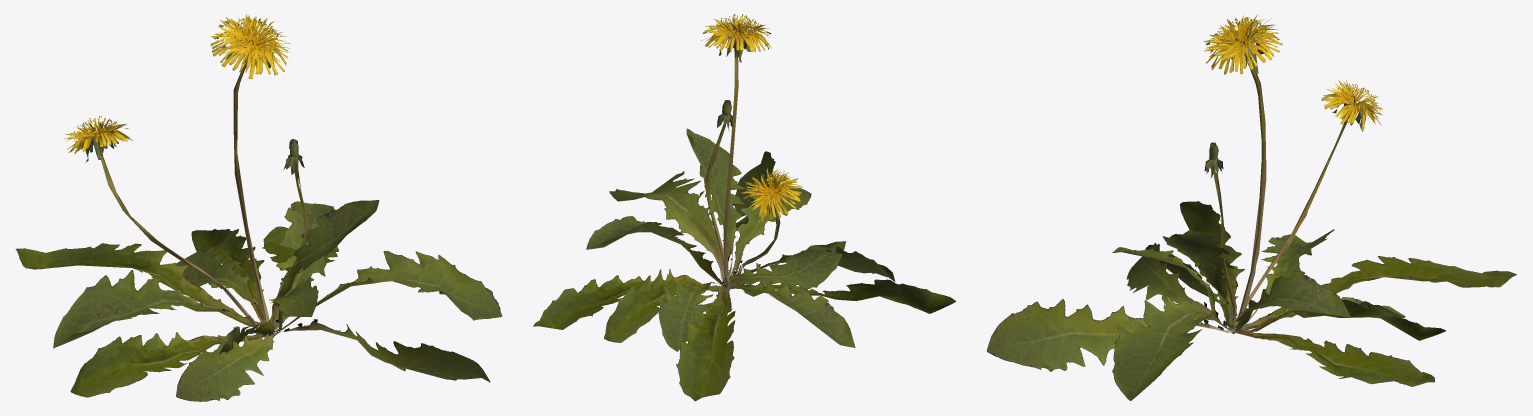
File: dandelions.glb
3 renders of one model, left to right at view 1: azimuth 30°, elevation 25°; view 2: azimuth 150°, elevation 25°; view 3: azimuth 270°, elevation 25°, orthographic. The views are drawn at different scales.
Parts seen in each view (by area): view 1: dandelion_01_a_LOD0; view 2: dandelion_01_a_LOD0; view 3: dandelion_01_a_LOD0.
Boxes of the visible parts, x1,y1,x2,y2 form: dandelion_01_a_LOD0: (15, 14, 502, 401); dandelion_01_a_LOD0: (533, 14, 955, 401); dandelion_01_a_LOD0: (987, 15, 1516, 400).
Bounding box in the file's own units: 0.2223 × 0.1644 × 0.2575.
Materials: 1 (1 with a texture image).
